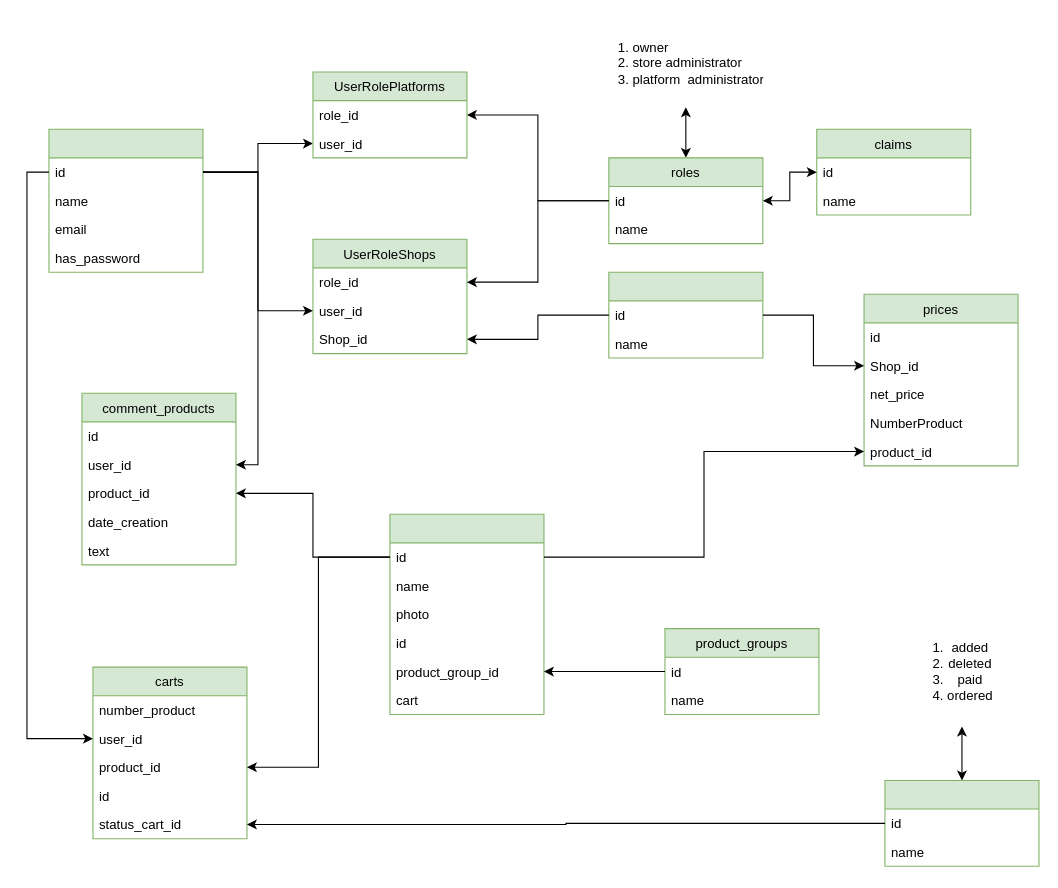
This 1058x888 diagram has some shape labels left out. Each missing label, with the box of its shape:
products: (389, 513, 544, 714)
Shops: (608, 271, 763, 358)
status_carts: (884, 779, 1039, 866)
users: (48, 128, 203, 272)
